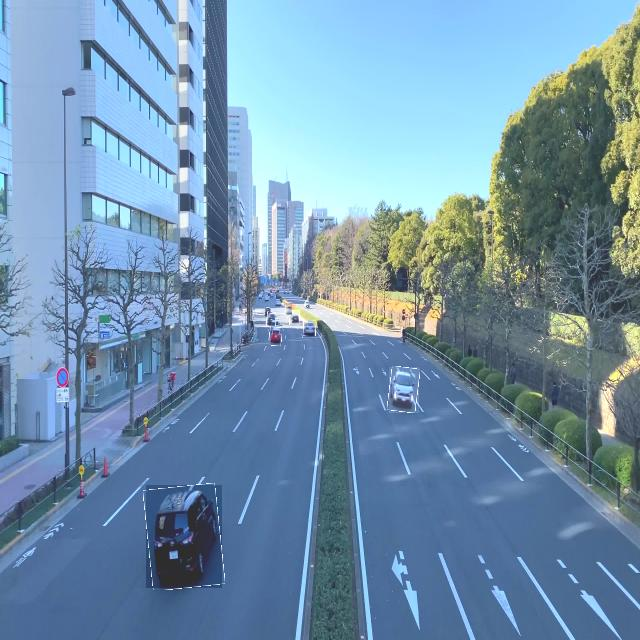Car: (146, 485, 222, 588), (389, 367, 419, 413), (270, 328, 282, 346), (304, 321, 316, 336), (290, 310, 300, 325), (267, 312, 276, 326), (285, 302, 292, 315)
